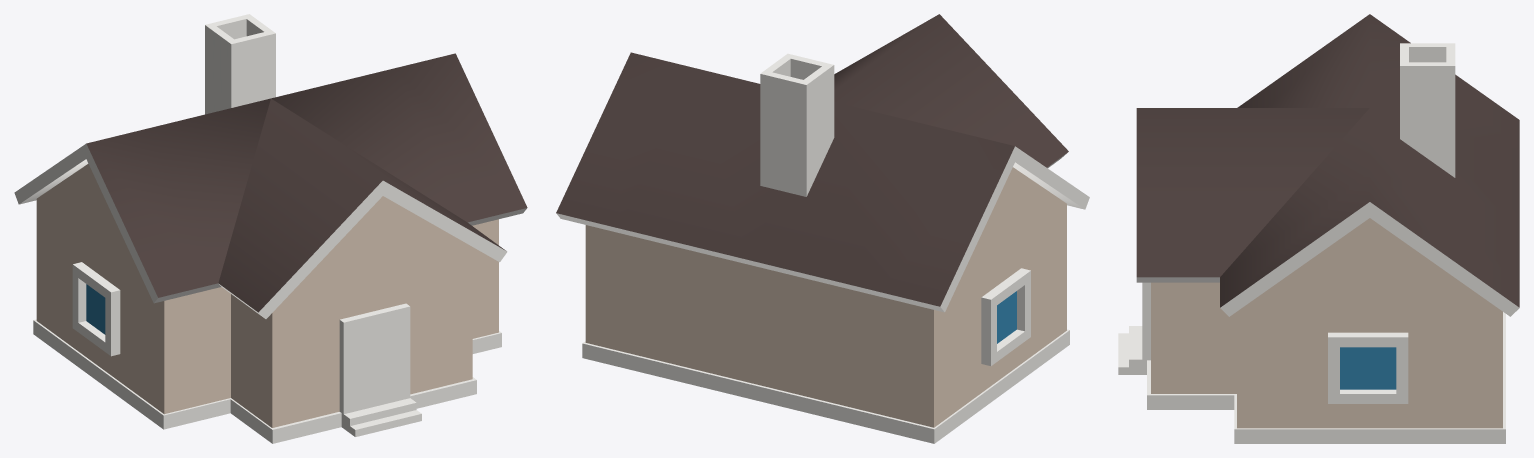
File: house_beige.fbx
3 views of the same model, side by side, from view 1: azimuth 30°, elevation 25°; view 2: azimuth 150°, elevation 25°; view 3: azimuth 270°, elevation 25° (orthographic). The views are drawn at different scales.
Visible parts, largest first — view 1: house; view 2: house; view 3: house.
Part boxes in pixels (x1,y1,x2,y2): house: [14, 14, 527, 443]; house: [556, 14, 1089, 443]; house: [1118, 14, 1519, 443].
Size of the model in its own units: 243 by 183 by 220.
